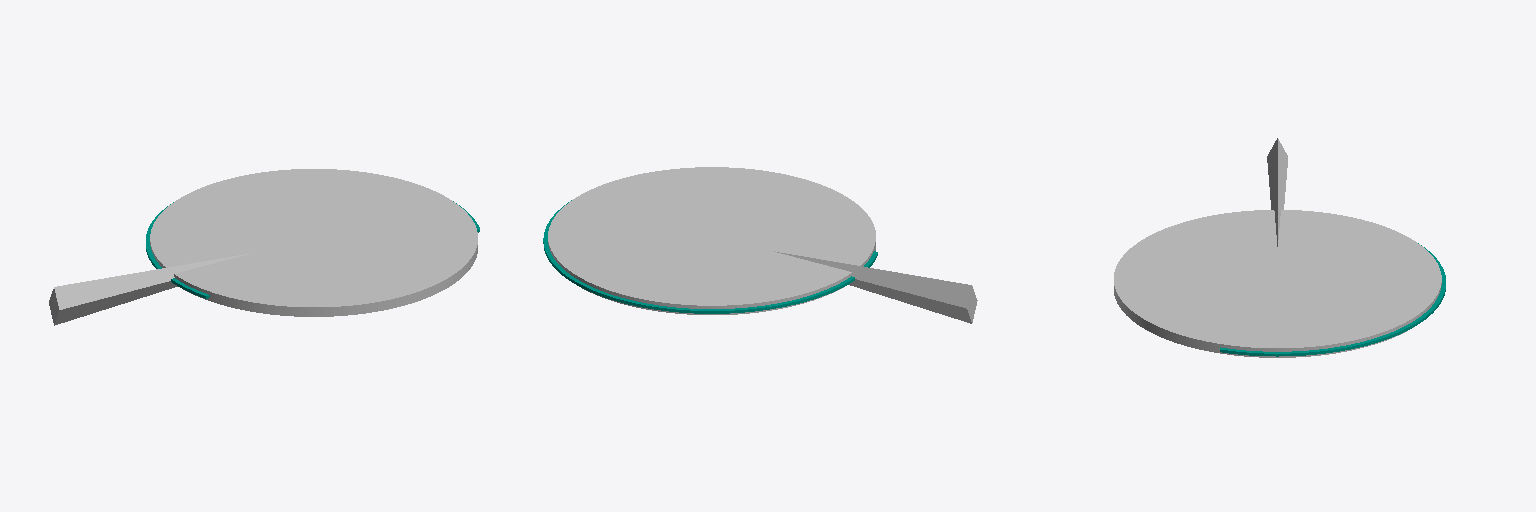
The model's file is pointerzu.obj.
The picture shows the model from 3 angles: view 1: azimuth 30°, elevation 25°; view 2: azimuth 150°, elevation 25°; view 3: azimuth 270°, elevation 25°; orthographic projection.
Parts seen in each view (by area): view 1: Cylinder.001_Cylinder.005, Cone, Cylinder.002_Cylinder.006; view 2: Cylinder.001_Cylinder.005, Cone, Cylinder.002_Cylinder.006; view 3: Cylinder.001_Cylinder.005, Cylinder.002_Cylinder.006, Cone.
Part boxes in pixels (bbox=[...]): Cylinder.001_Cylinder.005: bbox=[150, 169, 477, 316]; Cone: bbox=[49, 253, 250, 325]; Cylinder.002_Cylinder.006: bbox=[146, 201, 479, 298]; Cylinder.001_Cylinder.005: bbox=[548, 167, 875, 314]; Cone: bbox=[774, 251, 977, 323]; Cylinder.002_Cylinder.006: bbox=[543, 200, 877, 313]; Cylinder.001_Cylinder.005: bbox=[1114, 210, 1441, 357]; Cylinder.002_Cylinder.006: bbox=[1220, 243, 1445, 356]; Cone: bbox=[1267, 138, 1287, 246].
Size of the model in its own units: 3.06 by 0.28 by 2.17.